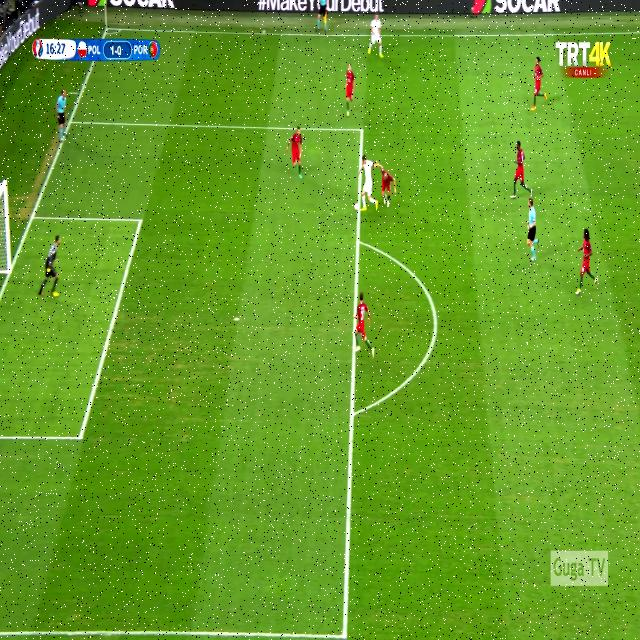Ball: (354, 200, 360, 212)
GoalKeeper: (37, 234, 64, 298)
TEAM 1: (354, 290, 374, 359), (512, 139, 532, 200), (286, 126, 303, 180), (343, 64, 357, 116), (380, 167, 396, 210), (534, 56, 546, 108)
TEAM 2: (356, 156, 384, 213), (576, 227, 598, 294), (367, 15, 384, 57)
